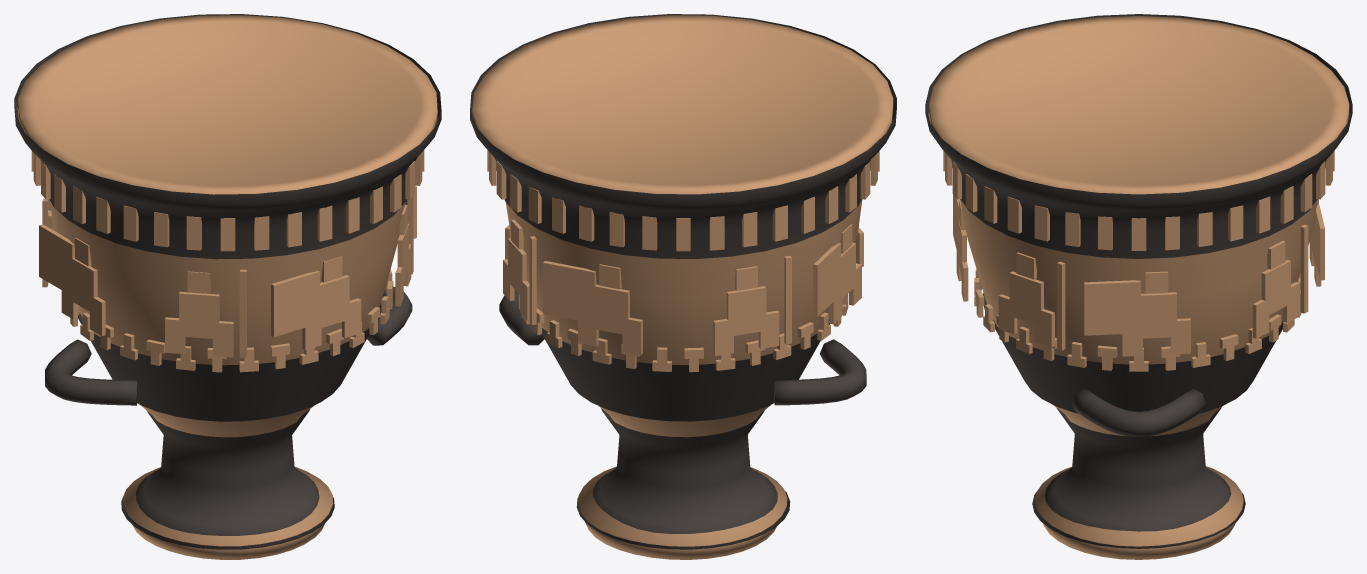
File: krater.glb
3 views of the same model, side by side, from view 1: azimuth 30°, elevation 25°; view 2: azimuth 150°, elevation 25°; view 3: azimuth 270°, elevation 25° (orthographic).
Parts seen in each view (by area): view 1: vase_body, vase_glaze, vase_paint, vase_handles; view 2: vase_body, vase_glaze, vase_paint, vase_handles; view 3: vase_body, vase_glaze, vase_paint, vase_handles.
Boxes of the visible parts, x1,y1,x2,y2 form: vase_body: (17,15,437,559); vase_glaze: (14,14,441,549); vase_paint: (31,150,424,372); vase_handles: (45,286,412,405); vase_body: (472,15,893,559); vase_glaze: (470,14,896,549); vase_paint: (487,150,879,372); vase_handles: (499,289,866,405); vase_body: (928,16,1349,559); vase_glaze: (925,14,1352,548); vase_paint: (943,151,1334,371); vase_handles: (1071,388,1206,436).
Size of the model in its own units: 0.528 by 0.565 by 0.528.
